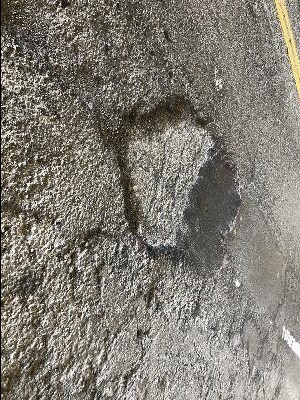pothole: (96, 91, 245, 278)
